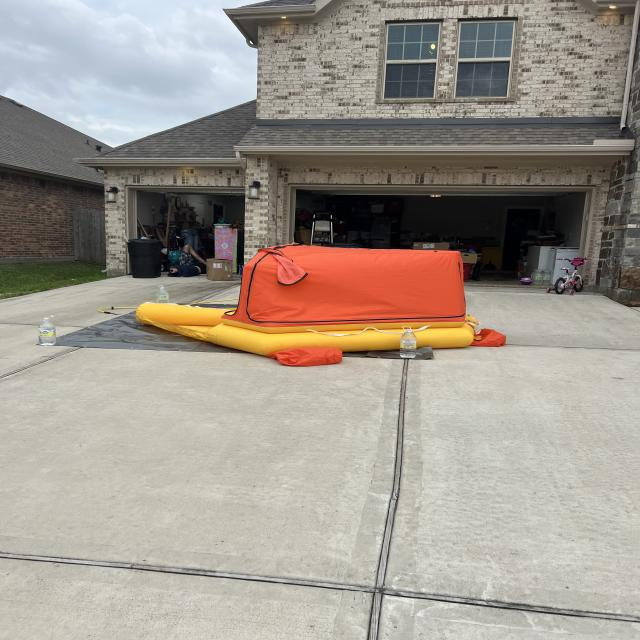Multi-person_life_raft: (136, 240, 507, 368)
